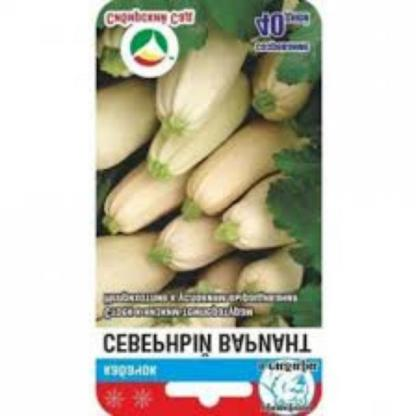vegetable marrow: (137, 1, 267, 152), (169, 114, 304, 234), (144, 75, 258, 210), (199, 155, 318, 258), (94, 146, 208, 244), (130, 198, 233, 285), (238, 42, 324, 126), (101, 72, 180, 162), (235, 248, 308, 314)
